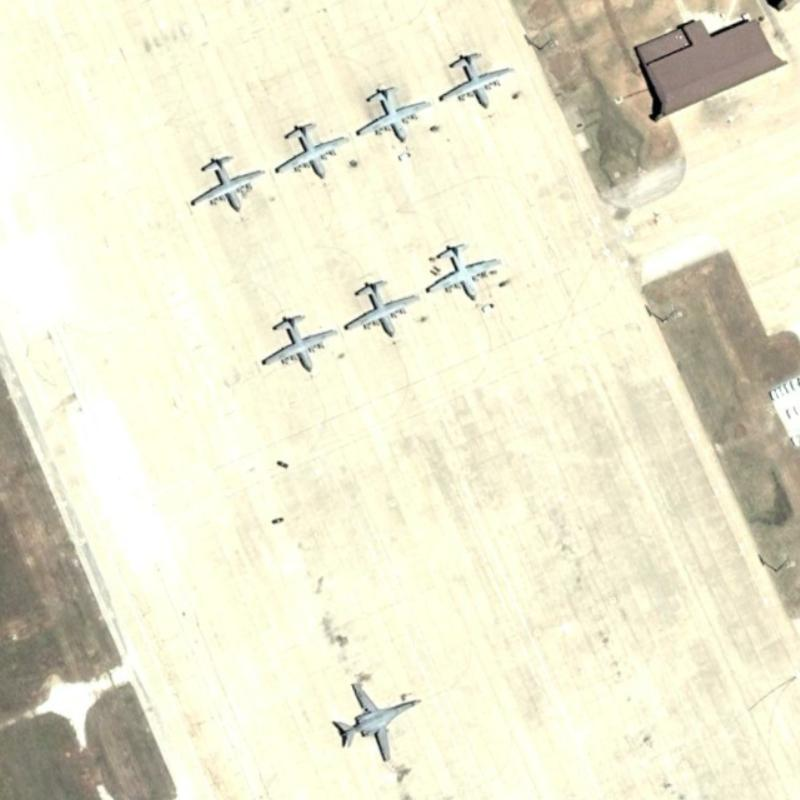A10: (318, 667, 423, 766)
A2: (337, 271, 429, 345), (420, 239, 506, 315), (271, 118, 358, 188), (439, 43, 518, 114), (353, 83, 429, 155), (260, 306, 336, 378), (184, 148, 262, 215)
